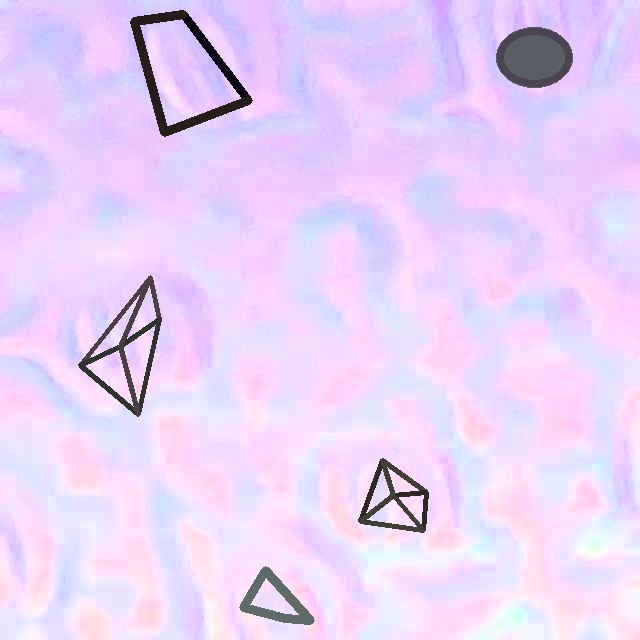open: (130, 11, 252, 136), (78, 275, 161, 416), (359, 459, 427, 531), (496, 28, 572, 87), (239, 566, 314, 622)
